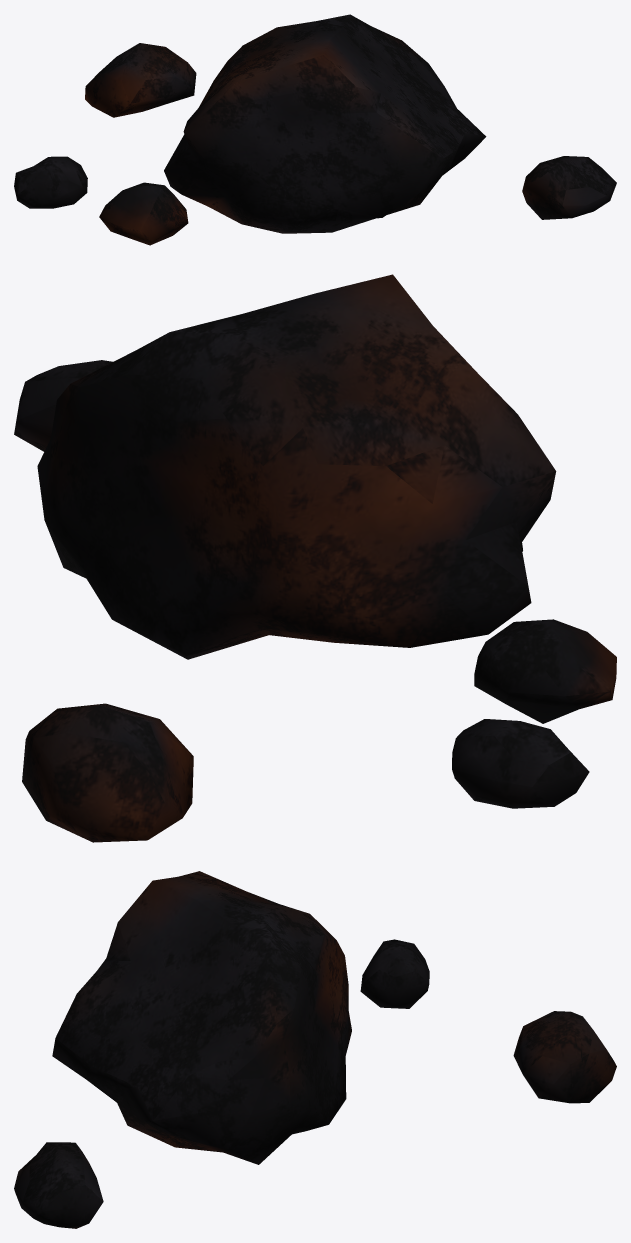
The model's file is meteor_fragment_small.glb.
3 renders of one model, top to bottom at view 1: azimuth 30°, elevation 25°; view 2: azimuth 150°, elevation 25°; view 3: azimuth 270°, elevation 25°, orthographic. The views are drawn at different scales.
Visible parts, largest first — view 1: meteor_fragment_small; view 2: meteor_fragment_small; view 3: meteor_fragment_small.
Boxes of the visible parts, bbox=[...] form: meteor_fragment_small: bbox=[14, 14, 616, 245]; meteor_fragment_small: bbox=[14, 274, 616, 842]; meteor_fragment_small: bbox=[14, 871, 616, 1228].
Bounding box in the file's own units: 2.4 × 0.9263 × 2.3.
Materials: 1 (1 with a texture image).
